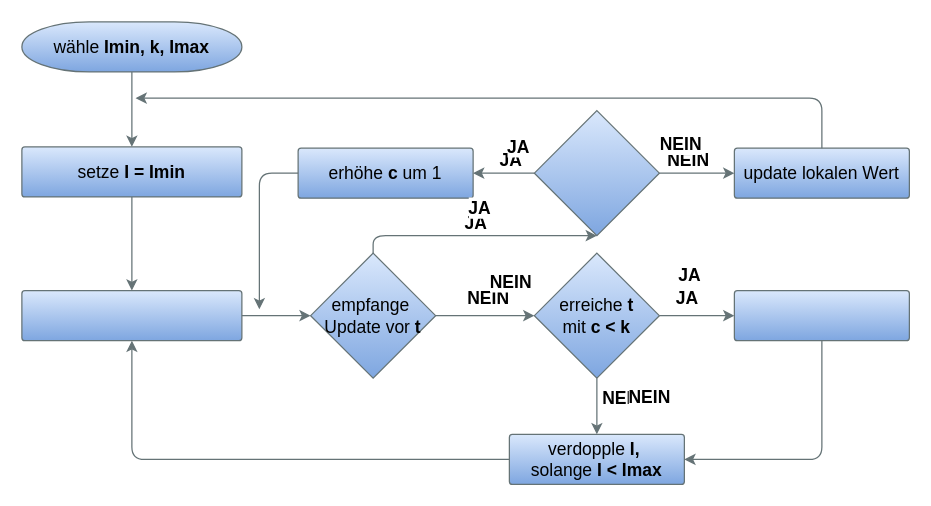
Some shapes in this 931 by 506 pixel diagram are drawn without their labels. Each missing label, with the centre of its shape:
"broadcaste Update" belongs at point 821,315.
"ist Update konsitent" belongs at point 596,172.
"starte neues Intervall mit I, wähle t , setze c = 0" belongs at point 131,315.
